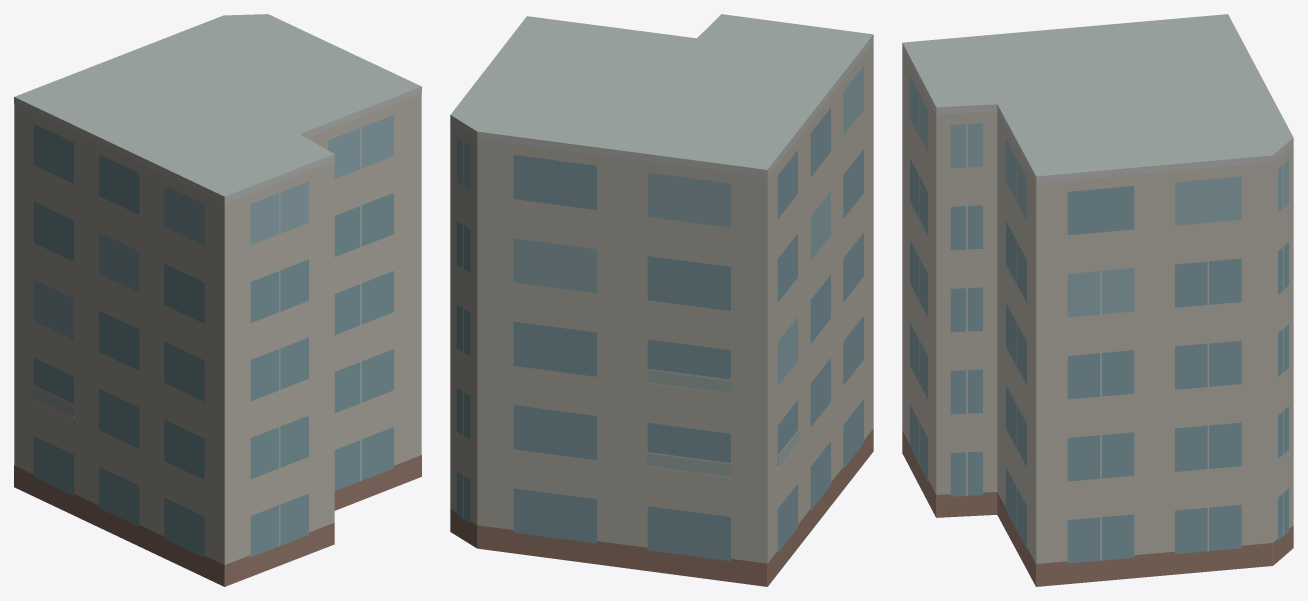
The model's file is survey-upis-32960865.glb.
3 views of the same model, side by side, from view 1: azimuth 30°, elevation 25°; view 2: azimuth 150°, elevation 25°; view 3: azimuth 270°, elevation 25° (orthographic). The views are drawn at different scales.
Visible parts, largest first — view 1: survey-upis-32960865.tmp; view 2: survey-upis-32960865.tmp; view 3: survey-upis-32960865.tmp.
Part boxes in pixels (x1=…): survey-upis-32960865.tmp: x1=14, y1=14, x2=421, y2=586; survey-upis-32960865.tmp: x1=450, y1=14, x2=873, y2=586; survey-upis-32960865.tmp: x1=902, y1=14, x2=1293, y2=586.
Size of the model in its own units: 11.81 by 13.9 by 12.02.
